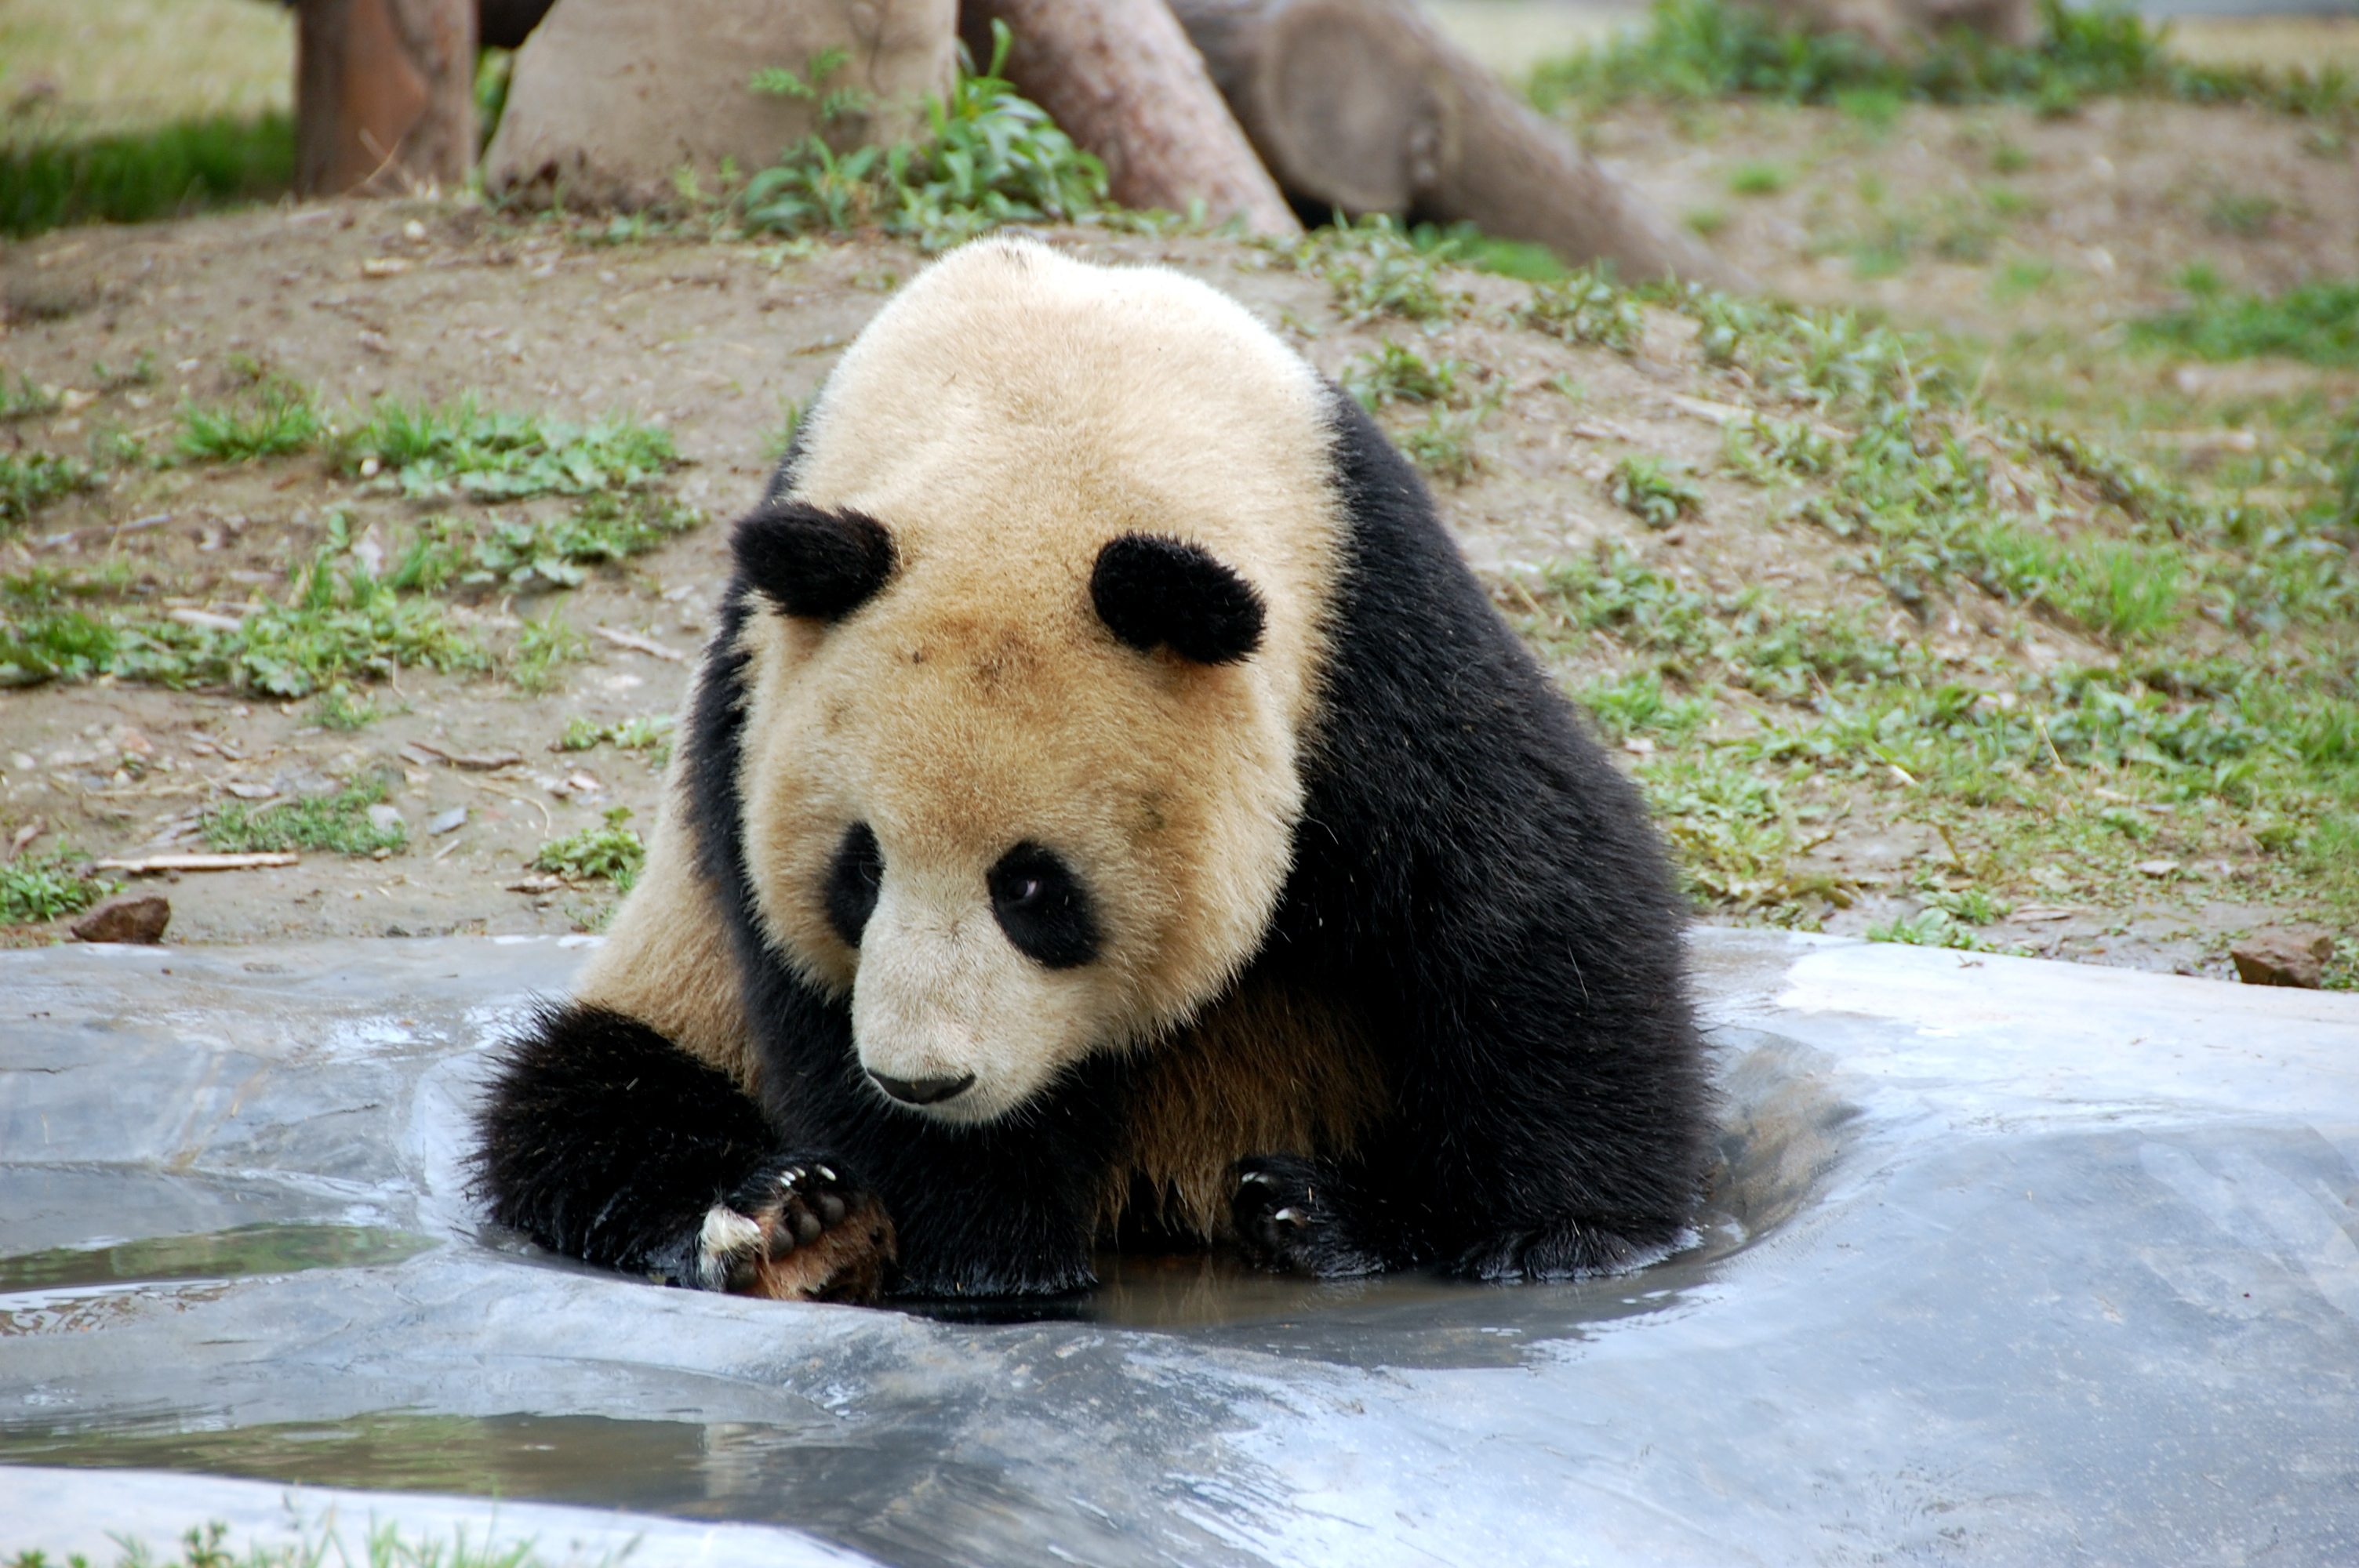panda: (493, 217, 1762, 1333)
